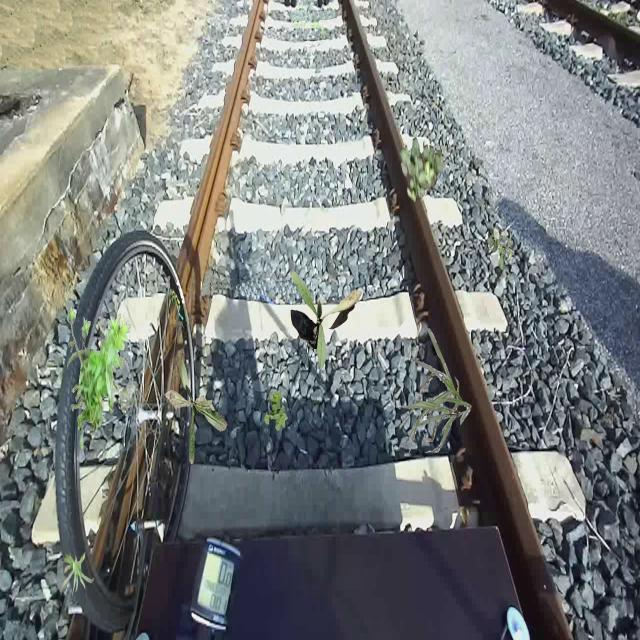Plant: (67, 306, 132, 449), (399, 328, 472, 452), (290, 271, 362, 371), (164, 353, 228, 465), (400, 137, 443, 203), (62, 551, 94, 597), (487, 229, 514, 270), (264, 391, 288, 432)
